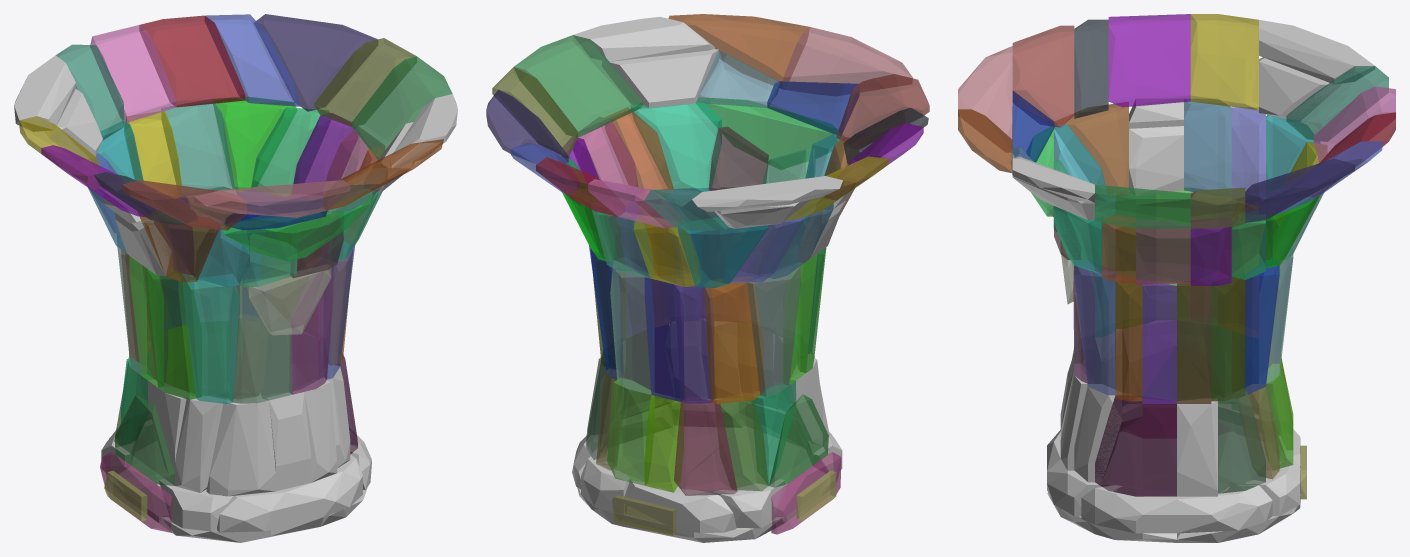
3 views of the same model, side by side, from view 1: azimuth 30°, elevation 25°; view 2: azimuth 150°, elevation 25°; view 3: azimuth 270°, elevation 25° (orthographic).
Parts seen in each view (by area): view 1: Shape_IndexedFaceSet.050, Shape_IndexedFaceSet.048, Shape_IndexedFaceSet.017, Shape_IndexedFaceSet.016, Shape_IndexedFaceSet.015, Shape_IndexedFaceSet.063, Shape_IndexedFaceSet.043, Shape_IndexedFaceSet.033, Shape_IndexedFaceSet.049, Shape_IndexedFaceSet.051, Shape_IndexedFaceSet.034, Shape_IndexedFaceSet.008 (+64 smaller); view 2: Shape_IndexedFaceSet.008, Shape_IndexedFaceSet.011, Shape_IndexedFaceSet.040, Shape_IndexedFaceSet.004, Shape_IndexedFaceSet.001, Shape_IndexedFaceSet.005, Shape_IndexedFaceSet.010, Shape_IndexedFaceSet.053, Shape_IndexedFaceSet.018, Shape_IndexedFaceSet.071, Shape_IndexedFaceSet.046, Shape_IndexedFaceSet.012 (+71 smaller); view 3: Shape_IndexedFaceSet.044, Shape_IndexedFaceSet.009, Shape_IndexedFaceSet.041, Shape_IndexedFaceSet.046, Shape_IndexedFaceSet.030, Shape_IndexedFaceSet.025, Shape_IndexedFaceSet.029, Shape_IndexedFaceSet.015, Shape_IndexedFaceSet.070, Shape_IndexedFaceSet.042, Shape_IndexedFaceSet.020, Shape_IndexedFaceSet.021 (+63 smaller).
Boxes of the visible parts, x1,y1,x2,y2 form: Shape_IndexedFaceSet.050: [254, 14, 377, 111]; Shape_IndexedFaceSet.048: [139, 15, 245, 107]; Shape_IndexedFaceSet.017: [230, 283, 292, 403]; Shape_IndexedFaceSet.016: [182, 274, 239, 403]; Shape_IndexedFaceSet.015: [146, 268, 201, 399]; Shape_IndexedFaceSet.063: [206, 397, 275, 496]; Shape_IndexedFaceSet.043: [90, 25, 176, 122]; Shape_IndexedFaceSet.033: [161, 99, 235, 195]; Shape_IndexedFaceSet.049: [205, 14, 300, 106]; Shape_IndexedFaceSet.051: [313, 38, 416, 126]; Shape_IndexedFaceSet.034: [213, 97, 296, 191]; Shape_IndexedFaceSet.008: [352, 56, 452, 159]; Shape_IndexedFaceSet.008: [514, 35, 642, 137]; Shape_IndexedFaceSet.011: [704, 276, 763, 404]; Shape_IndexedFaceSet.040: [630, 101, 721, 191]; Shape_IndexedFaceSet.004: [783, 27, 912, 95]; Shape_IndexedFaceSet.001: [696, 98, 842, 169]; Shape_IndexedFaceSet.005: [668, 14, 809, 88]; Shape_IndexedFaceSet.010: [747, 265, 800, 396]; Shape_IndexedFaceSet.053: [674, 398, 737, 495]; Shape_IndexedFaceSet.018: [610, 260, 653, 394]; Shape_IndexedFaceSet.071: [602, 49, 718, 108]; Shape_IndexedFaceSet.046: [836, 74, 929, 149]; Shape_IndexedFaceSet.012: [674, 280, 713, 403]; Shape_IndexedFaceSet.044: [1108, 14, 1190, 107]; Shape_IndexedFaceSet.009: [1095, 396, 1176, 496]; Shape_IndexedFaceSet.041: [1190, 14, 1258, 110]; Shape_IndexedFaceSet.046: [1012, 25, 1074, 127]; Shape_IndexedFaceSet.030: [1054, 102, 1128, 196]; Shape_IndexedFaceSet.025: [1074, 260, 1116, 395]; Shape_IndexedFaceSet.029: [1184, 99, 1231, 195]; Shape_IndexedFaceSet.015: [1116, 192, 1155, 328]; Shape_IndexedFaceSet.070: [1259, 20, 1374, 84]; Shape_IndexedFaceSet.042: [1286, 66, 1388, 141]; Shape_IndexedFaceSet.020: [1211, 272, 1245, 401]; Shape_IndexedFaceSet.021: [1177, 280, 1211, 403].
Size of the model in its own units: 0.5917 by 0.5733 by 0.5917.
